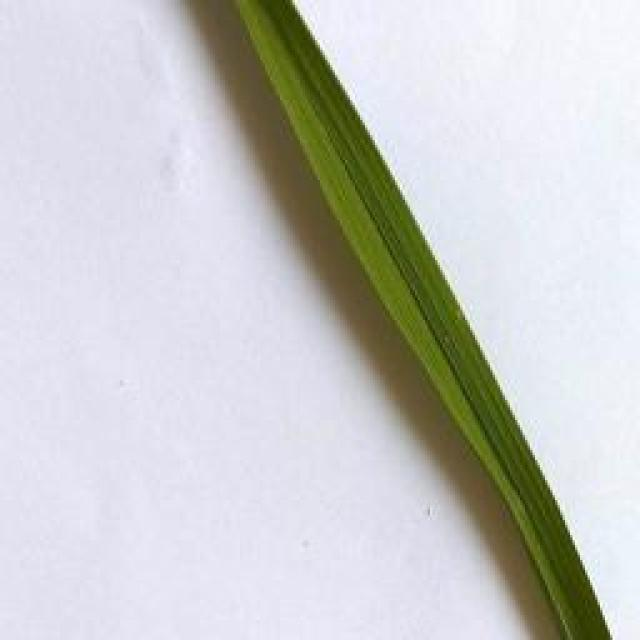Healthy-Plant: (235, 0, 617, 640)
